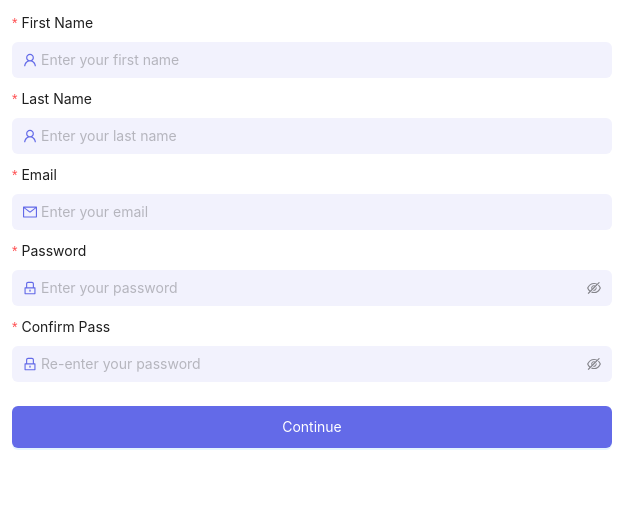
Test case: OnboardingForm Component › validates required fields
# Click the continue button without filling out the form
Click the button "Continue": (312, 427) [12,406,612,448]
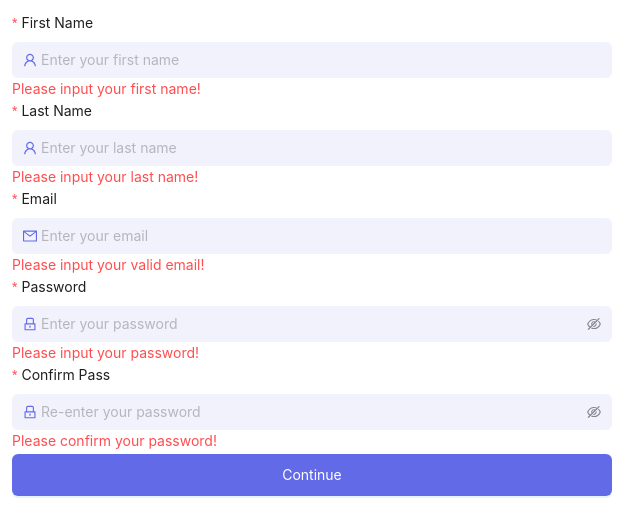
Result: the text "Please input your first name!" is shown at [12,80,201,97]
Result: the text "Please input your last name!" is shown at [12,168,198,185]
Result: the text "Please input your valid email!" is shown at [12,256,204,273]
